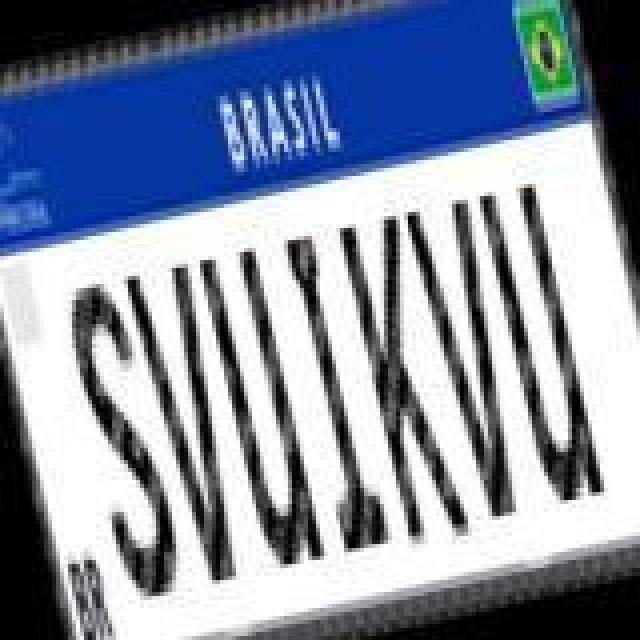I: (274, 226, 398, 558)
K: (340, 208, 476, 552)
S: (56, 272, 192, 608)
U: (196, 240, 332, 576), (478, 176, 610, 512)
V: (404, 192, 540, 528), (124, 258, 260, 590)
